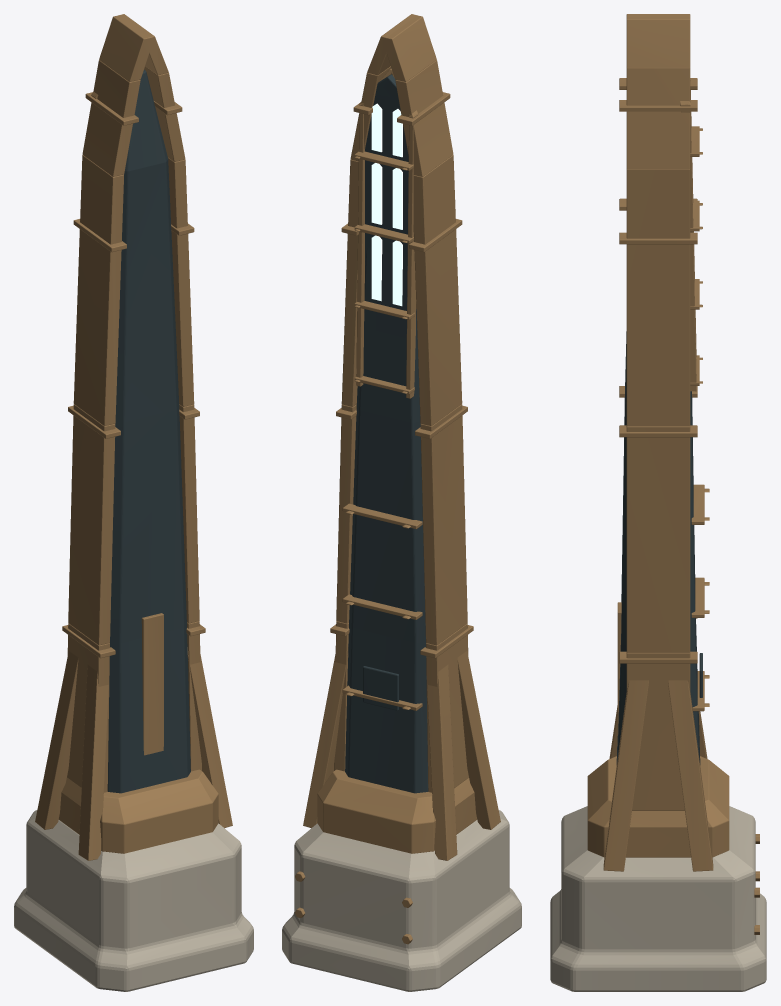
The model's file is arrival-beacon-small.glb.
The picture shows the model from 3 angles, left to right: view 1: azimuth 30°, elevation 25°; view 2: azimuth 150°, elevation 25°; view 3: azimuth 270°, elevation 25°; orthographic projection. The views are drawn at different scales.
Parts seen in each view (by area): view 1: arrival-beacon-small / bronze, arrival-beacon-small / recess, arrival-beacon-small / stone; view 2: arrival-beacon-small / bronze, arrival-beacon-small / recess, arrival-beacon-small / stone, arrival-beacon-small / light; view 3: arrival-beacon-small / bronze, arrival-beacon-small / stone, arrival-beacon-small / recess.
Boxes of the visible parts, x1,y1,x2,y2 form: arrival-beacon-small / bronze: [35, 14, 232, 860]; arrival-beacon-small / recess: [107, 69, 190, 793]; arrival-beacon-small / stone: [14, 810, 253, 991]; arrival-beacon-small / bronze: [295, 14, 500, 944]; arrival-beacon-small / recess: [345, 74, 428, 793]; arrival-beacon-small / stone: [282, 810, 521, 991]; arrival-beacon-small / light: [371, 103, 402, 306]; arrival-beacon-small / bronze: [587, 14, 759, 934]; arrival-beacon-small / stone: [550, 806, 766, 991]; arrival-beacon-small / recess: [616, 331, 702, 764].
Bounding box in the file's own units: 7 × 38.8 × 8.12.
